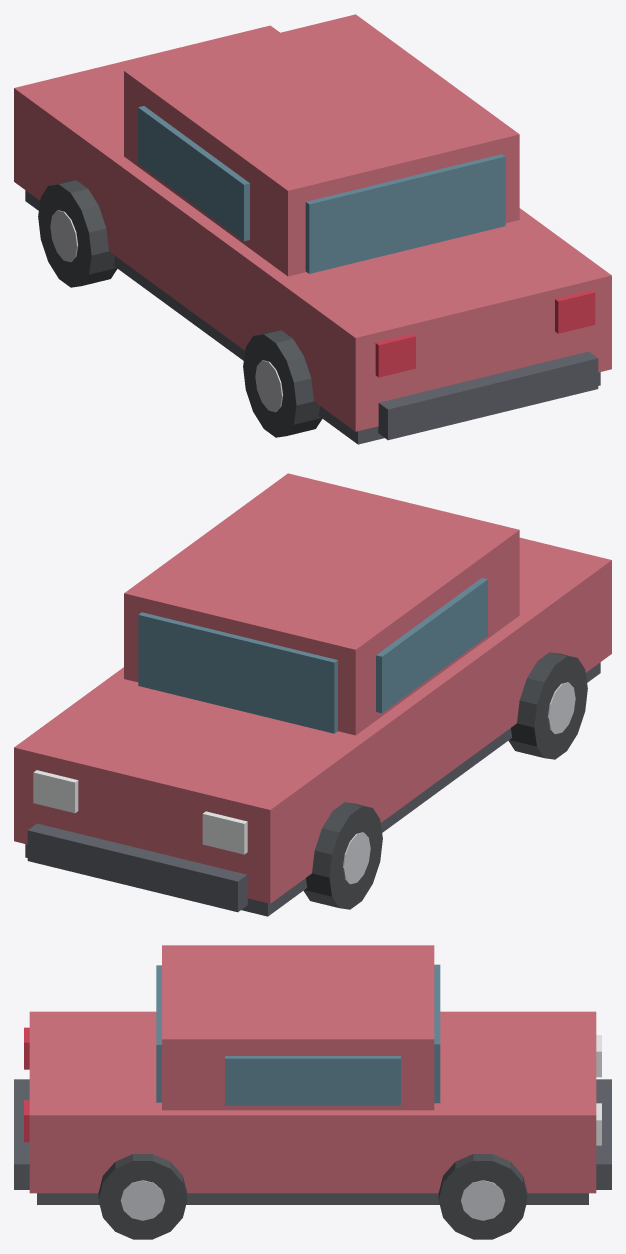
Rendered from fox.glb.
3 views of the same model, one above another, from view 1: azimuth 30°, elevation 25°; view 2: azimuth 150°, elevation 25°; view 3: azimuth 270°, elevation 25° (orthographic). The views are drawn at different scales.
Parts seen in each view (by area): view 1: BODY_main, BODY_cabin, WINDOW_rear, BODY_bumper_rear, WINDOW_side_-1, WHEEL_-1_1.149, WHEEL_-1_-1.149, BODY_lower, LIGHT_rear_1, LIGHT_rear_-1, WHEEL_-1_1.149_hub, WHEEL_-1_-1.149_hub; view 2: BODY_main, BODY_cabin, WINDOW_front, BODY_bumper_front, WINDOW_side_-1, WHEEL_-1_-1.149, WHEEL_-1_1.149, BODY_lower, LIGHT_front_-1, LIGHT_front_1, WHEEL_-1_-1.149_hub, WHEEL_-1_1.149_hub; view 3: BODY_main, BODY_cabin, WINDOW_side_1, WHEEL_1_-1.149, WHEEL_1_1.149, BODY_lower, BODY_bumper_front, BODY_bumper_rear, WHEEL_1_-1.149_hub, WHEEL_1_1.149_hub, WINDOW_front, WINDOW_rear.
Part boxes in pixels (x1,y1,x2,y2): BODY_main: (14,25,611,431); BODY_cabin: (124,14,519,276); WINDOW_rear: (305,154,505,273); BODY_bumper_rear: (378,351,598,440); WINDOW_side_-1: (138,106,249,241); WHEEL_-1_1.149: (243,330,322,437); WHEEL_-1_-1.149: (38,180,117,287); BODY_lower: (25,190,600,444); LIGHT_rear_1: (555,290,595,333); LIGHT_rear_-1: (375,334,415,377); WHEEL_-1_1.149_hub: (255,360,282,412); WHEEL_-1_-1.149_hub: (50,210,78,262); BODY_main: (14,537,611,903); BODY_cabin: (124,473,519,735); WINDOW_front: (138,612,337,733); BODY_bumper_front: (27,823,247,912); WINDOW_side_-1: (376,578,487,713); WHEEL_-1_-1.149: (303,802,382,909); WHEEL_-1_1.149: (508,652,587,759); BODY_lower: (25,662,600,916); LIGHT_front_-1: (202,811,247,854); LIGHT_front_1: (33,770,78,813); WHEEL_-1_-1.149_hub: (343,832,370,884); WHEEL_-1_1.149_hub: (547,682,575,734); BODY_main: (29,1011,596,1193); BODY_cabin: (162,945,434,1110); WINDOW_side_1: (225,1056,400,1105); WHEEL_1_-1.149: (438,1154,527,1239); WHEEL_1_1.149: (98,1154,187,1239); BODY_lower: (37,1193,588,1204); BODY_bumper_front: (596,1079,611,1189); BODY_bumper_rear: (14,1079,29,1189); WHEEL_1_-1.149_hub: (461,1180,505,1220); WHEEL_1_1.149_hub: (120,1180,164,1220); WINDOW_front: (434,964,440,1103); WINDOW_rear: (156,965,161,1102).
Size of the model in its own units: 1.9 by 1.4 by 4.04.
